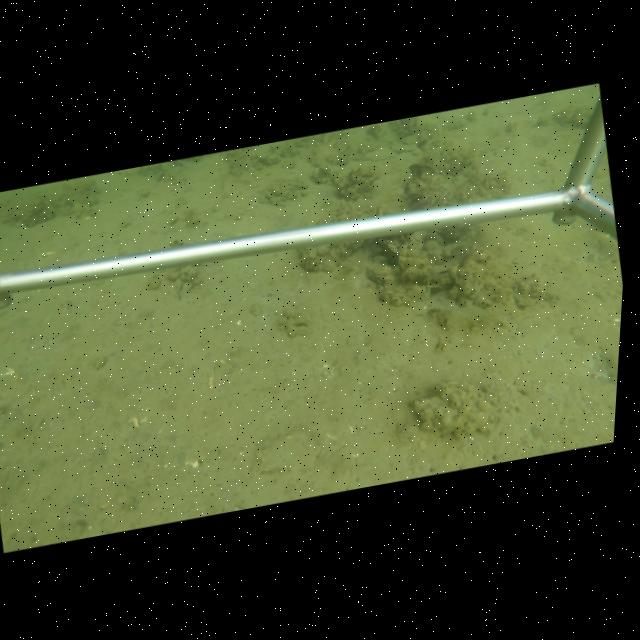Oyster-Closed: (362, 262, 396, 278), (445, 233, 467, 254)
Oyster-Indeterminate: (173, 276, 184, 297)
